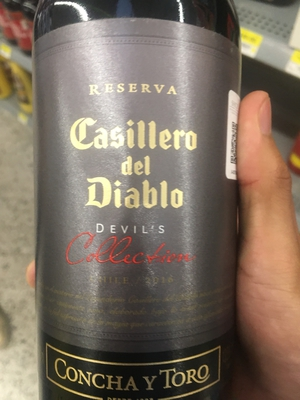casillero del diablo devils collection rojo: (31, 1, 237, 400)
